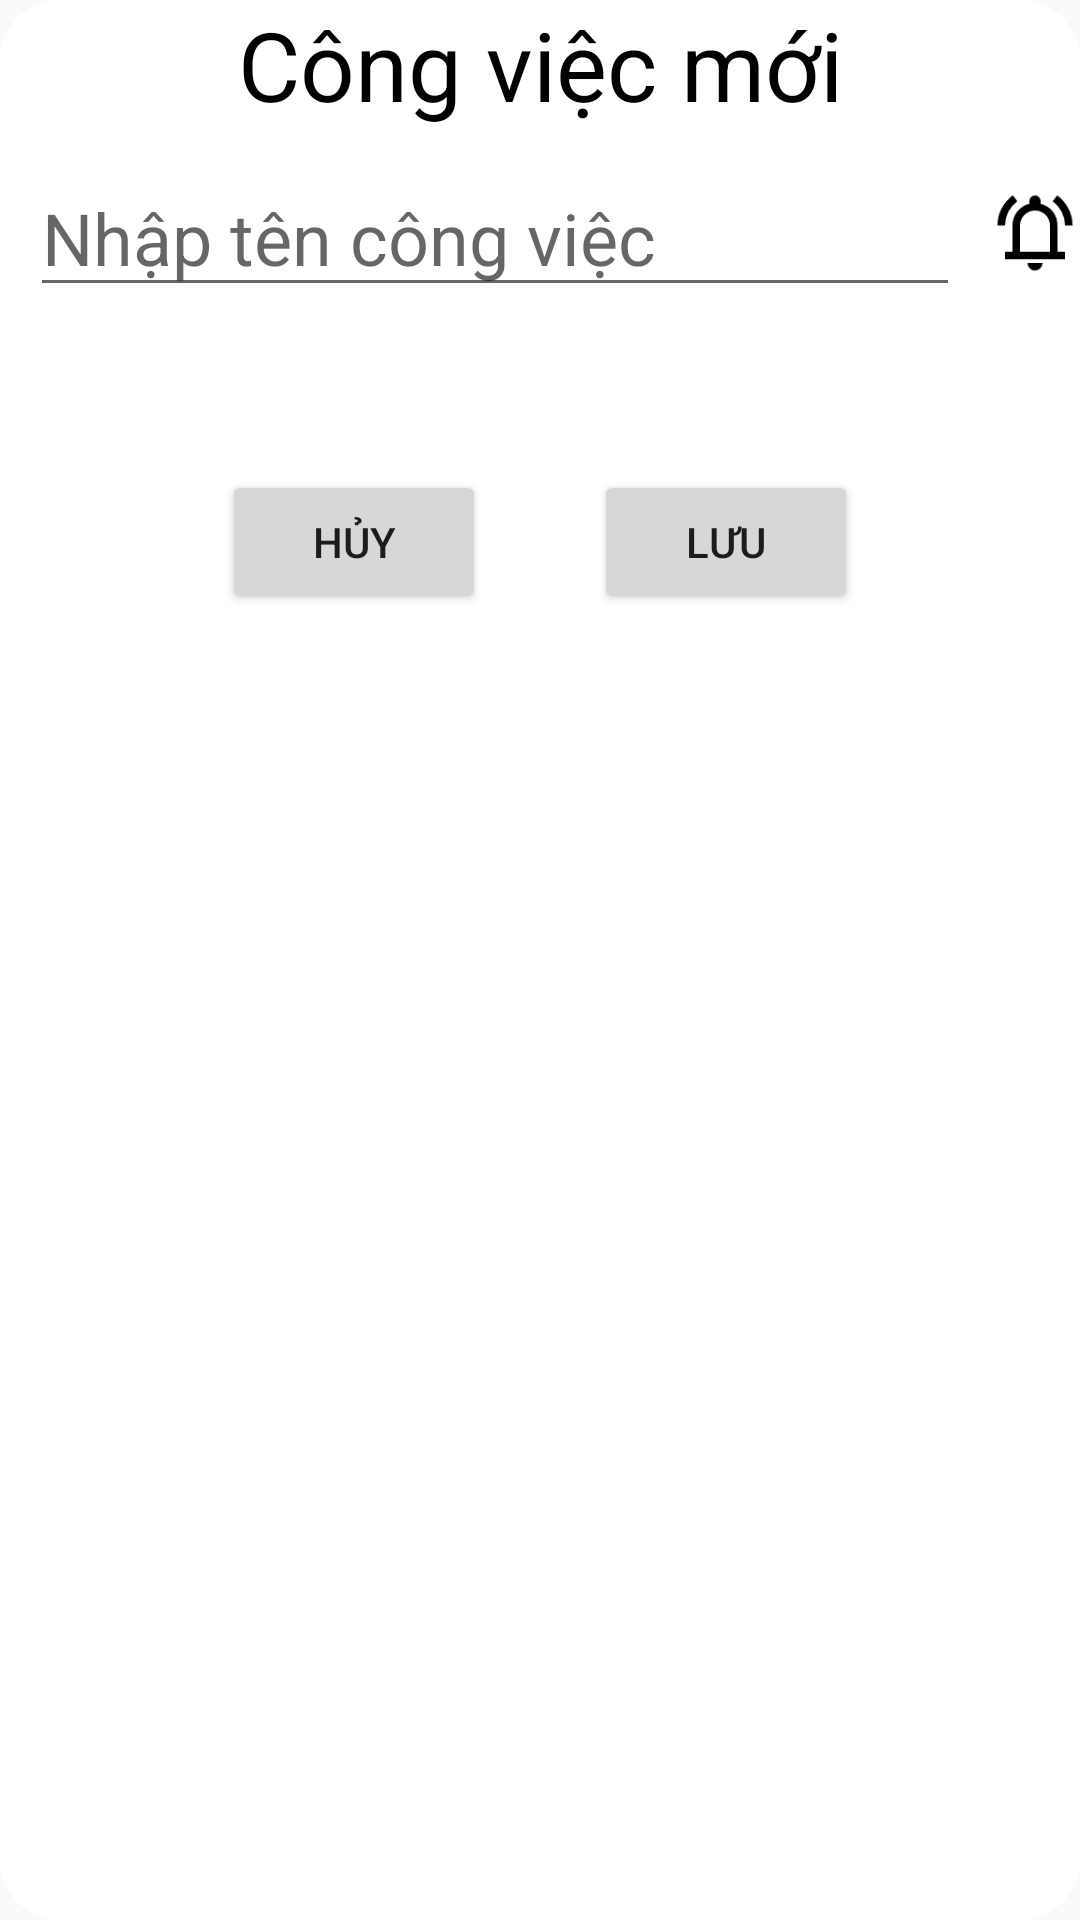

Icon bounding boxes for this 1080px×1920px phone screenshot, format (x1, y1, x2, y2):
notification: (997, 195, 1073, 271)
